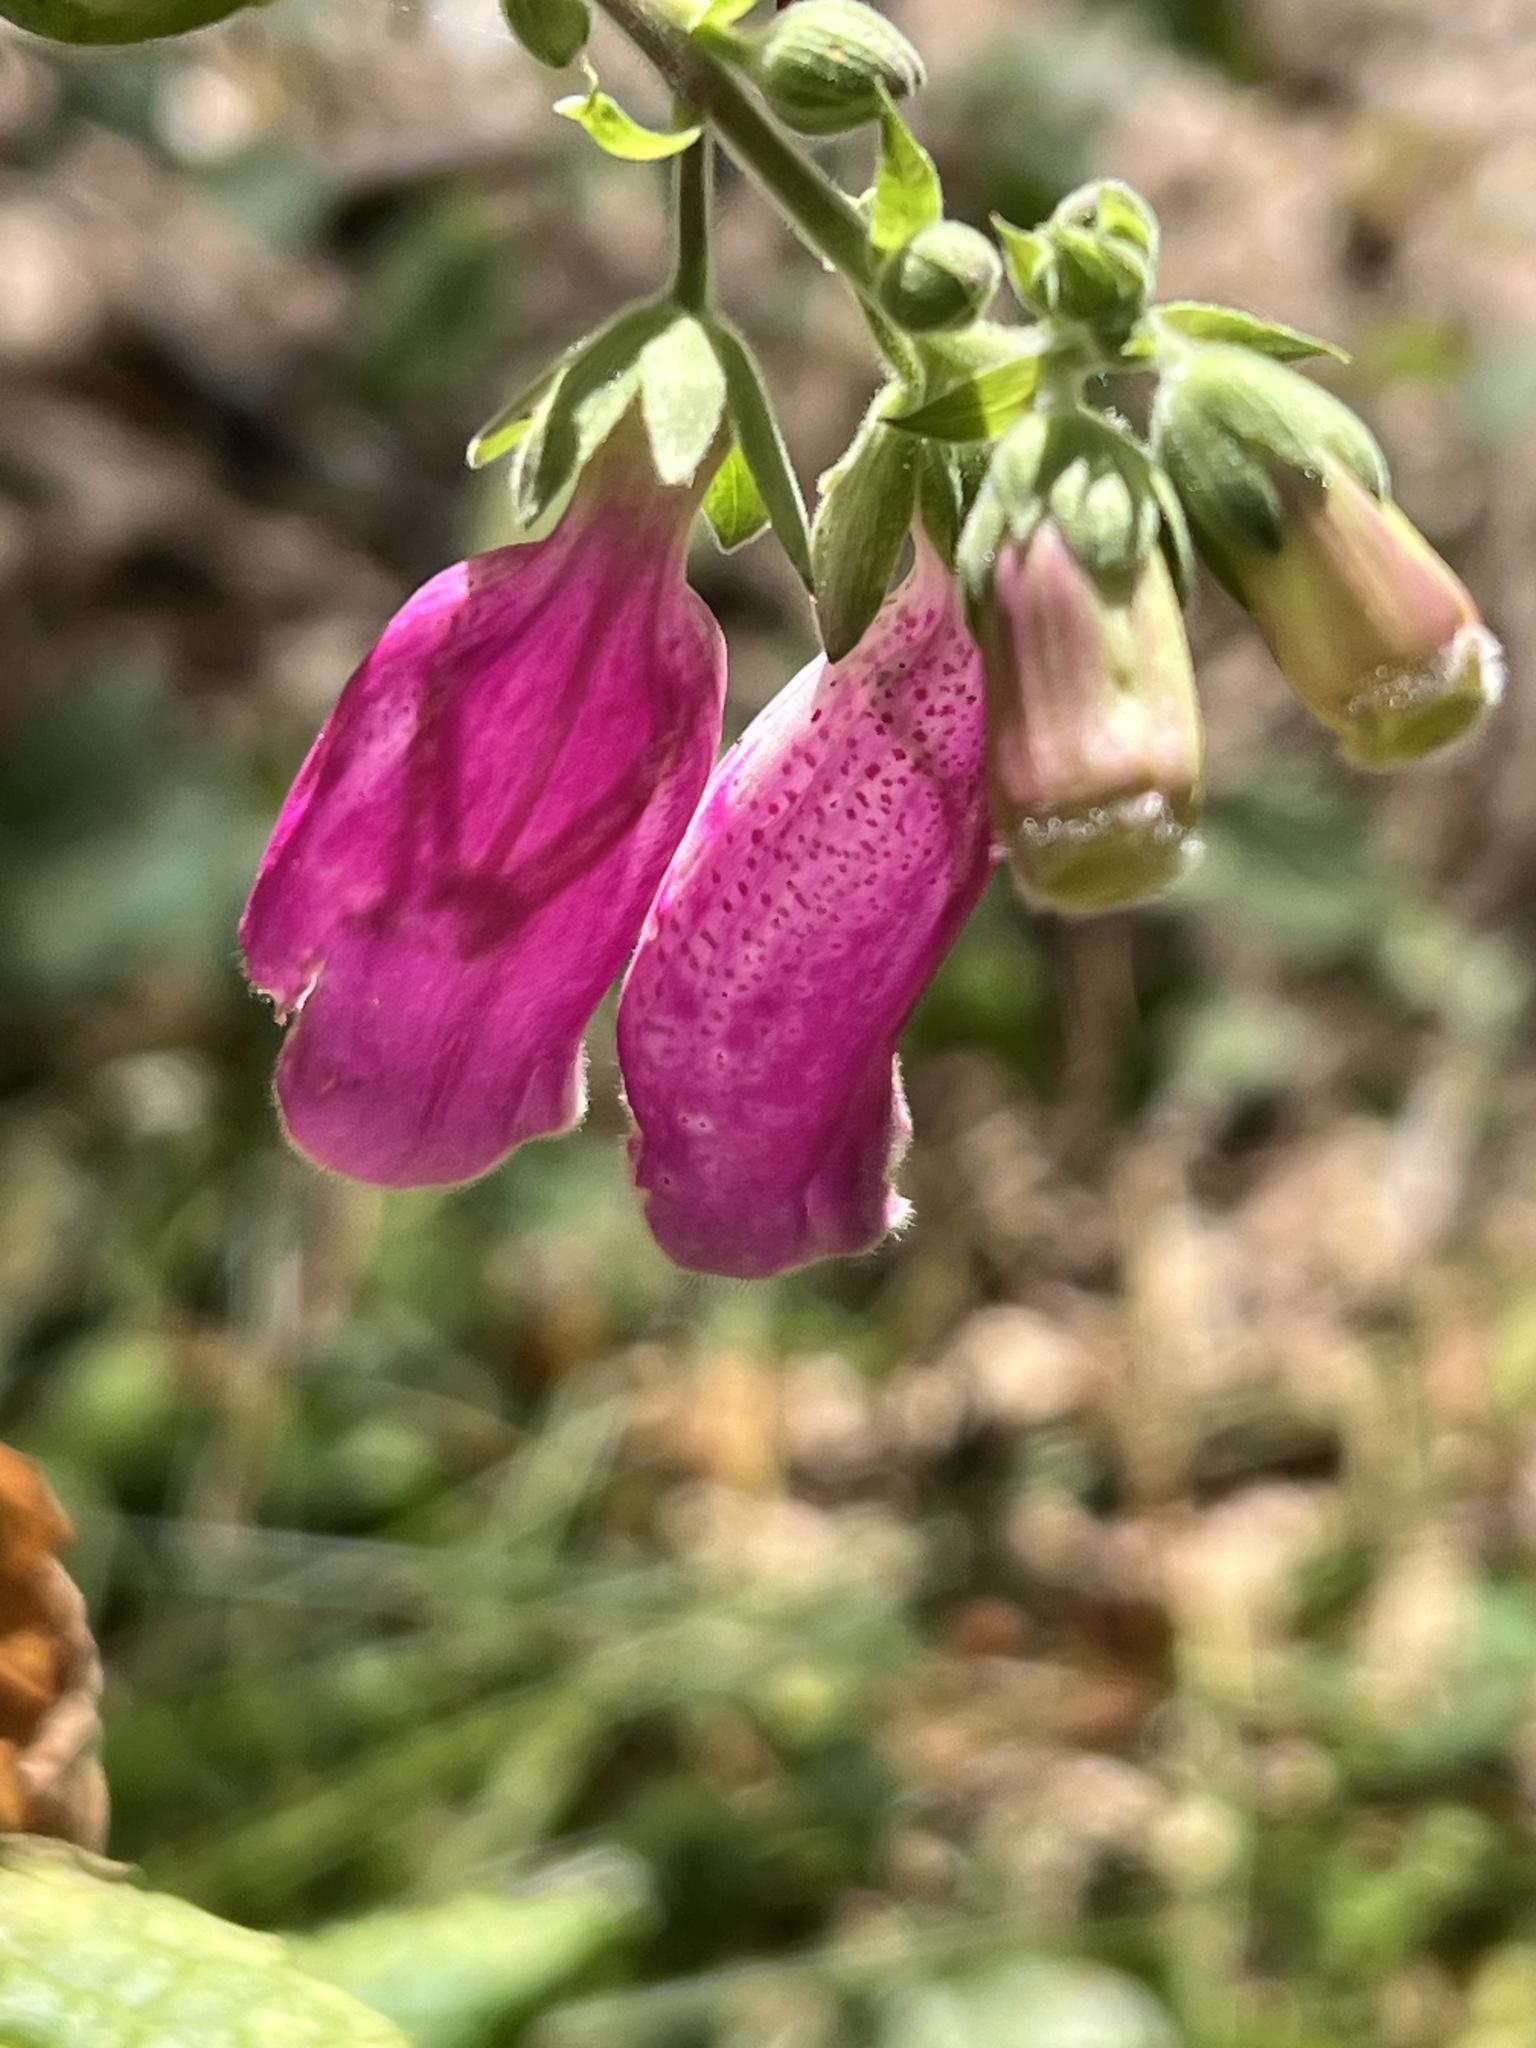Digitalis L: (278, 0, 1509, 1266)
